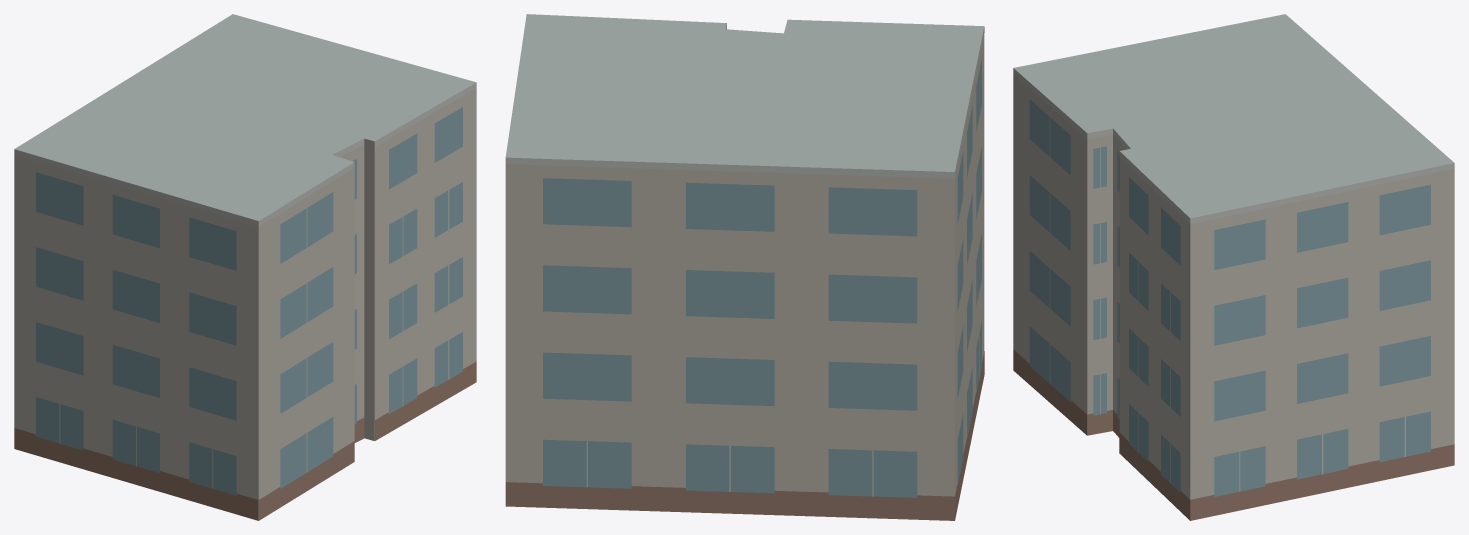
The model's file is survey-upis-32746474.glb.
3 renders of one model, left to right at view 1: azimuth 30°, elevation 25°; view 2: azimuth 150°, elevation 25°; view 3: azimuth 270°, elevation 25°, orthographic. The views are drawn at different scales.
Visible parts, largest first — view 1: survey-upis-32746474.tmp; view 2: survey-upis-32746474.tmp; view 3: survey-upis-32746474.tmp.
Part boxes in pixels (x1=…): survey-upis-32746474.tmp: x1=14, y1=14, x2=476, y2=520; survey-upis-32746474.tmp: x1=505, y1=14, x2=984, y2=520; survey-upis-32746474.tmp: x1=1013, y1=14, x2=1454, y2=520.
Bounding box in the file's own units: 18.85 × 13 × 17.2.
